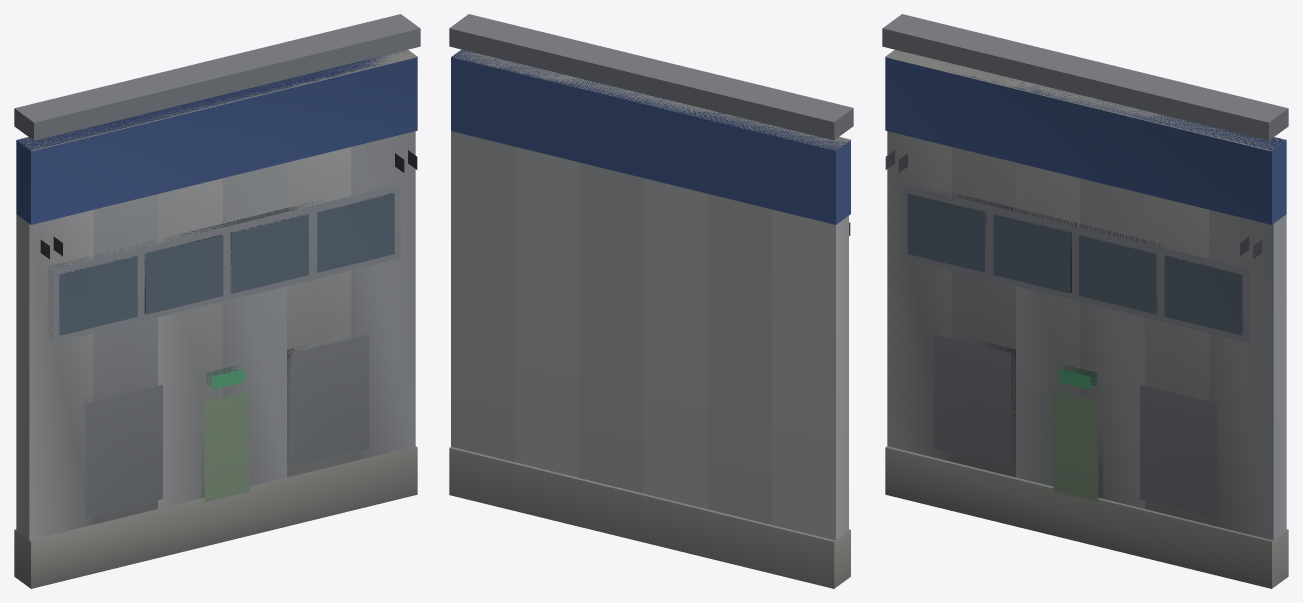
Rendered from sback_wall.lod.glb.
3 renders of one model, left to right at view 1: azimuth 30°, elevation 25°; view 2: azimuth 150°, elevation 25°; view 3: azimuth 330°, elevation 25°, orthographic.
Parts seen in each view (by area): view 1: sback_wall; view 2: sback_wall; view 3: sback_wall.
Boxes of the visible parts, x1,y1,x2,y2 form: sback_wall: (14, 14, 420, 588); sback_wall: (449, 14, 853, 588); sback_wall: (882, 14, 1288, 588).
Bounding box in the file's own units: 6 × 6.95 × 0.7.
